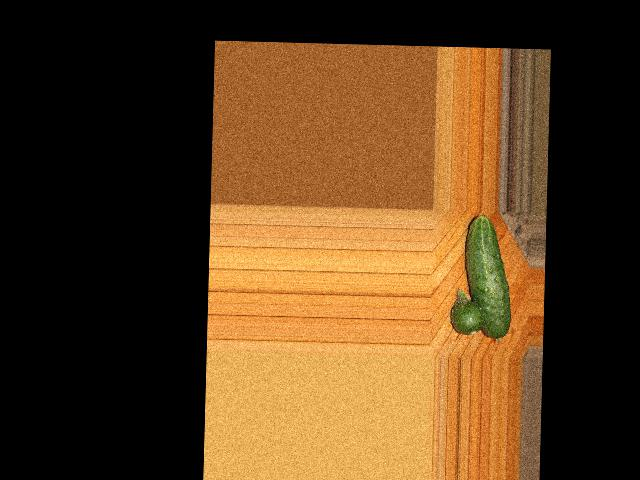cucumber: (463, 214, 513, 339)
